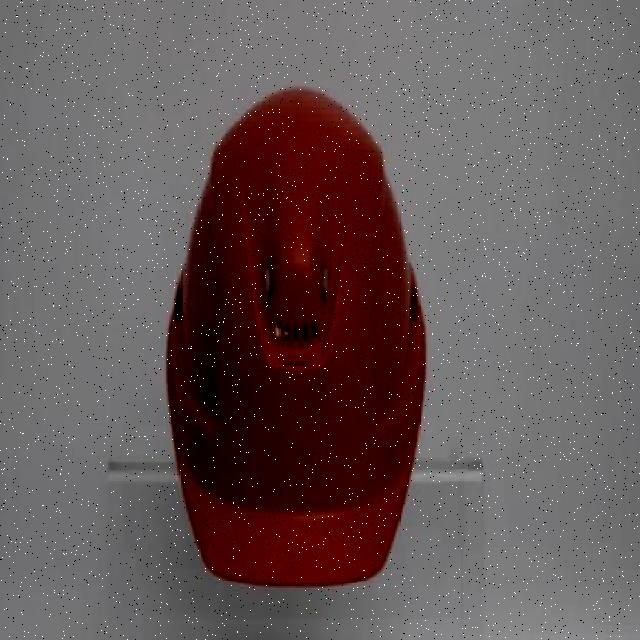Helmet: (165, 86, 428, 592)
